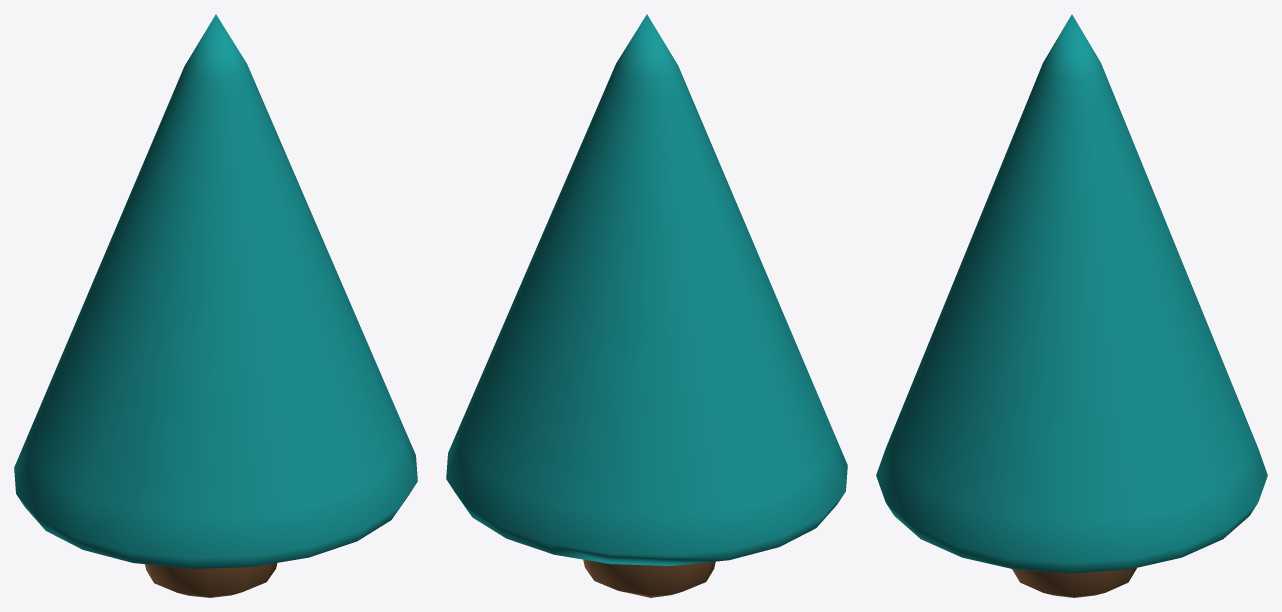
Rendered from tree.fbx.
The picture shows the model from 3 angles, left to right: view 1: azimuth 30°, elevation 25°; view 2: azimuth 150°, elevation 25°; view 3: azimuth 270°, elevation 25°; orthographic projection.
Parts seen in each view (by area): view 1: pasted__tree7; view 2: pasted__tree7; view 3: pasted__tree7.
Boxes of the visible parts, box(x1,y1,x2,y2) form: pasted__tree7: box(14, 14, 417, 597); pasted__tree7: box(446, 14, 847, 597); pasted__tree7: box(876, 14, 1267, 597).
Size of the model in its own units: 2.24 by 3.41 by 2.13.
